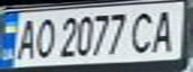0: (75, 11, 96, 57)
2: (57, 12, 78, 60)
7: (106, 10, 130, 56), (90, 11, 112, 56)
A: (145, 6, 184, 54), (12, 16, 39, 61)
C: (127, 8, 160, 55)
O: (30, 15, 57, 60)
